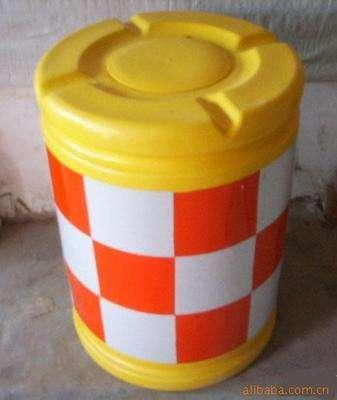sign: (28, 11, 302, 391)
